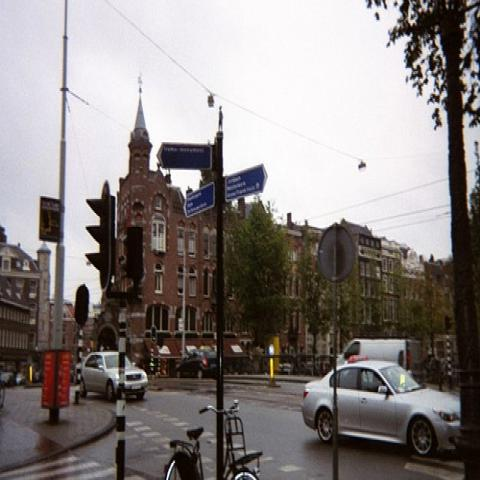car: (303, 359, 461, 458), (82, 350, 149, 402), (176, 350, 217, 380), (0, 371, 14, 388)
truck: (336, 339, 404, 368)
